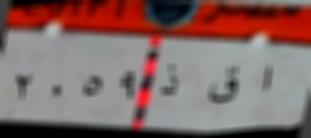0: (50, 79, 66, 100)
2: (10, 68, 38, 106)
5: (81, 69, 105, 102)
9: (117, 67, 138, 102)
alif: (254, 62, 278, 100)
qaaf: (205, 61, 243, 113)
zaal: (159, 60, 181, 105)
